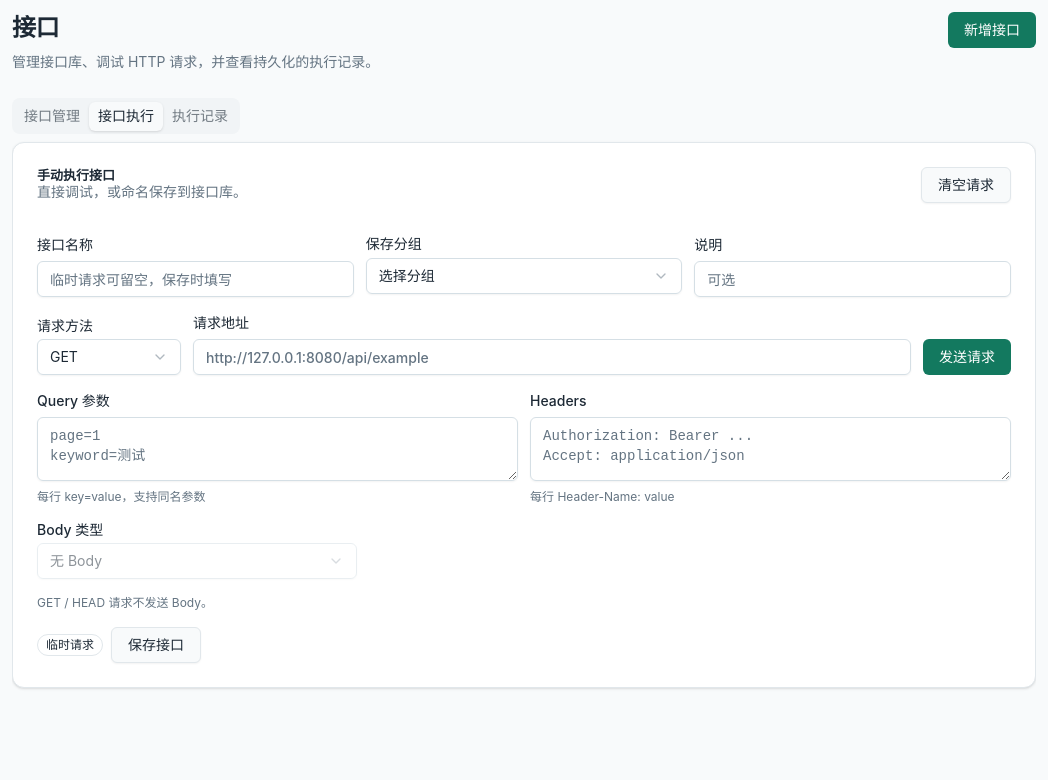
Test: request workspace › retains edited input on a version conflict and exposes save-as-new recovery
The image size is (1048, 780).
Click the tab "接口管理" at point(52, 116), box [15,102,89,130]
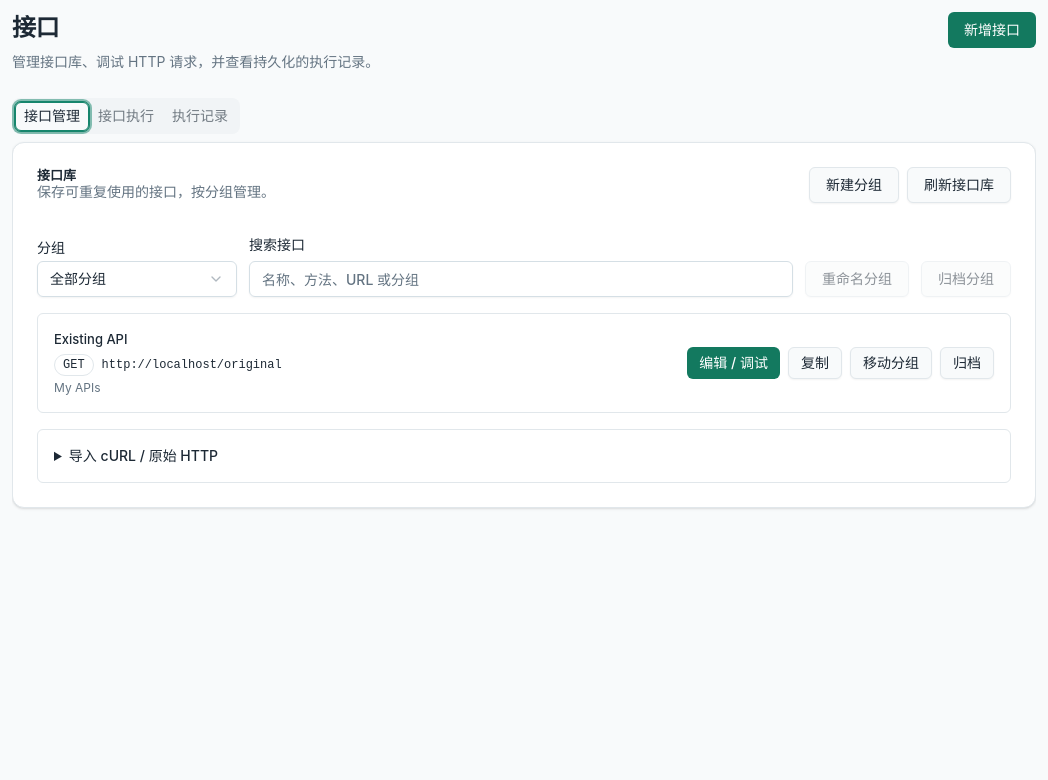
Click the button with aria-label "编辑接口 Existing API" at point(734, 363), box [687,347,780,379]
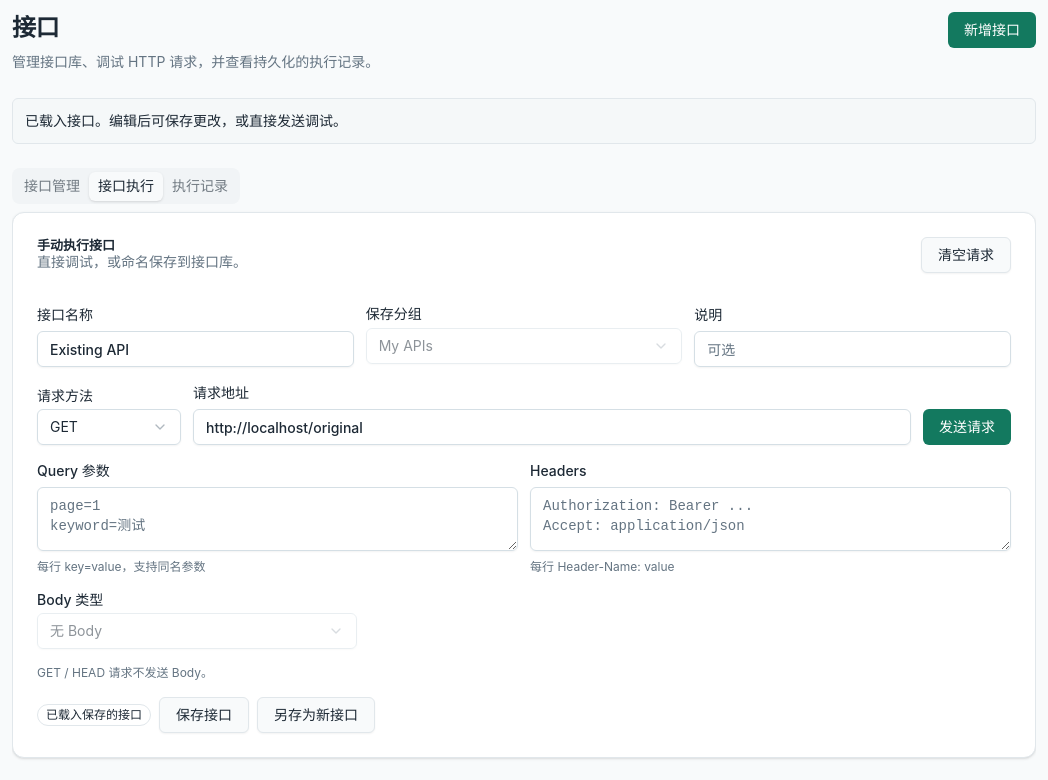
Replace the text in the field labelled "请求地址" with "http://localhost/edited" at point(552, 427), box [193,409,911,445]
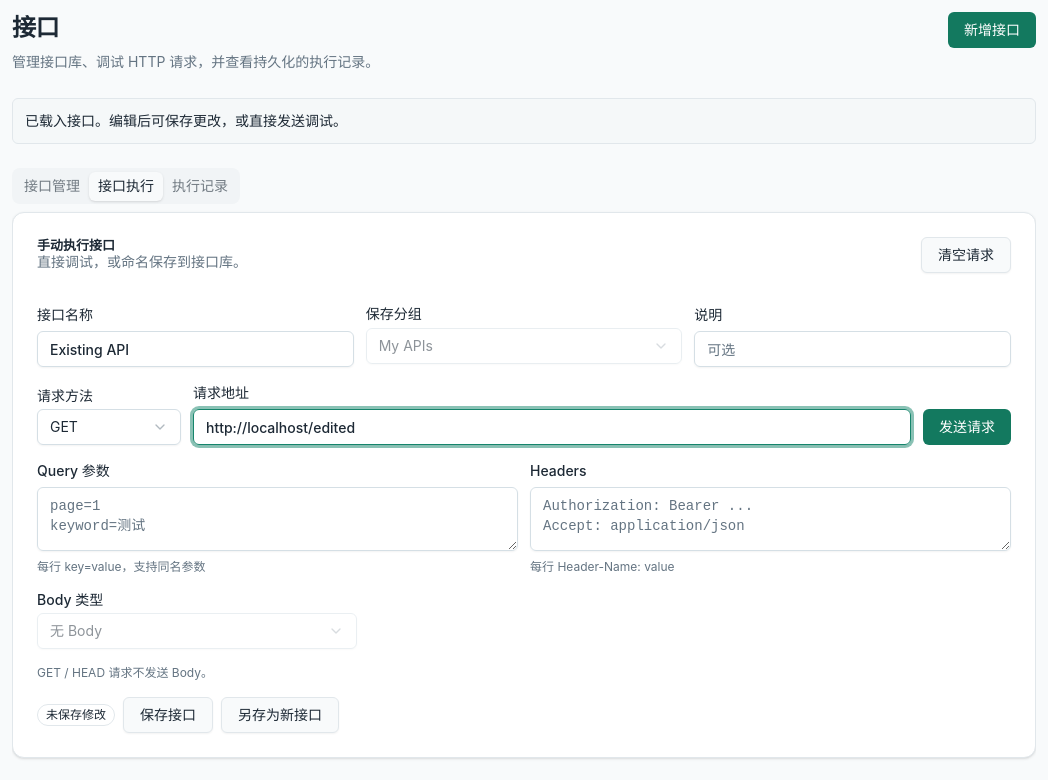
Click the button "保存接口" at point(168, 715), box [123,697,213,733]
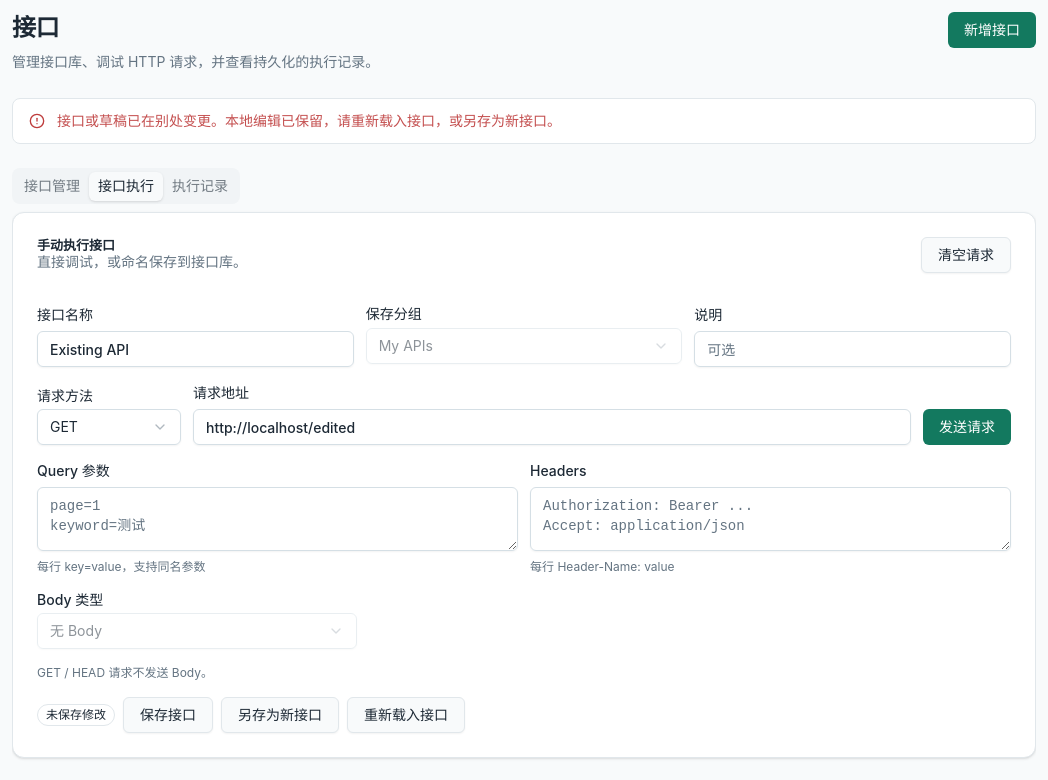
Result: the message shows "本地编辑已保留" at [57,112,561,129]
Result: the button "重新载入接口" is shown at [347,697,465,733]
Click the button "另存为新接口" at point(280, 715), box [221,697,339,733]
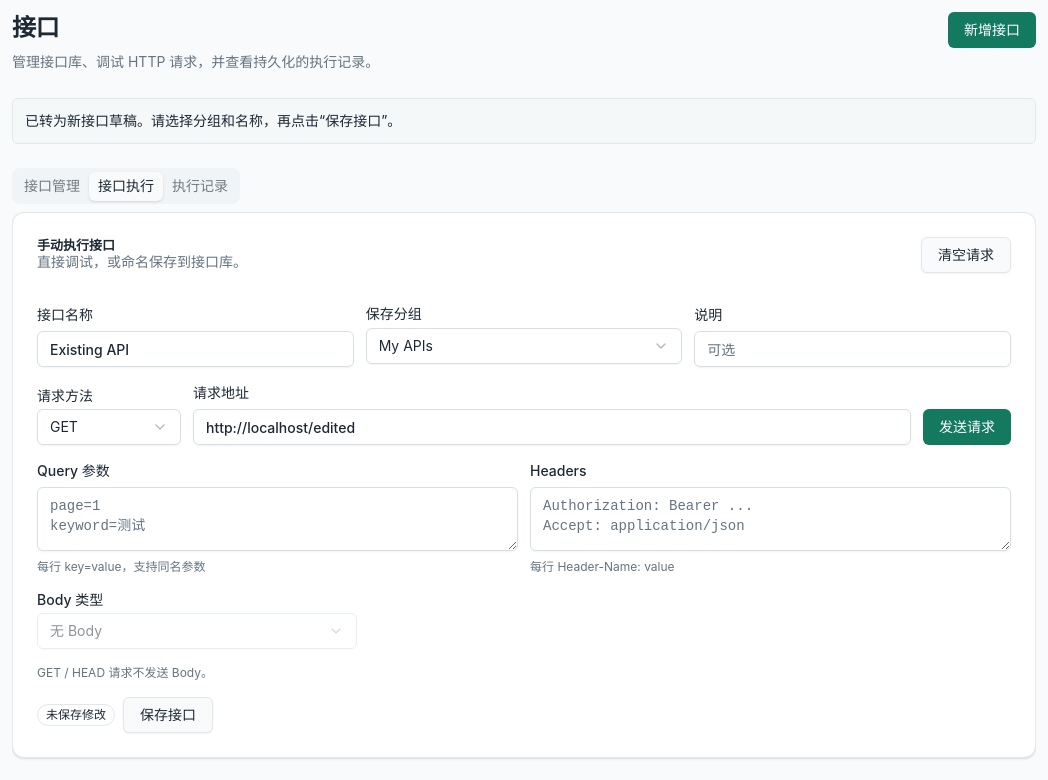
Result: the dropdown named "保存分组" is enabled at [366,328,682,364]
